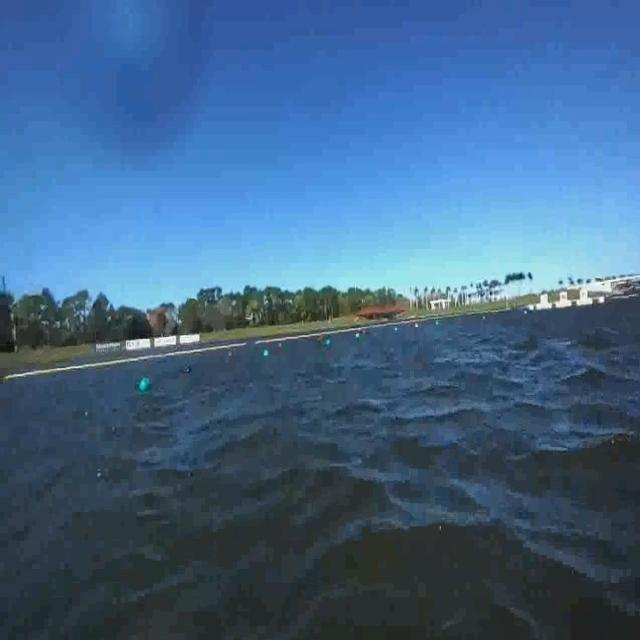green-buoy: (139, 378, 151, 393)
